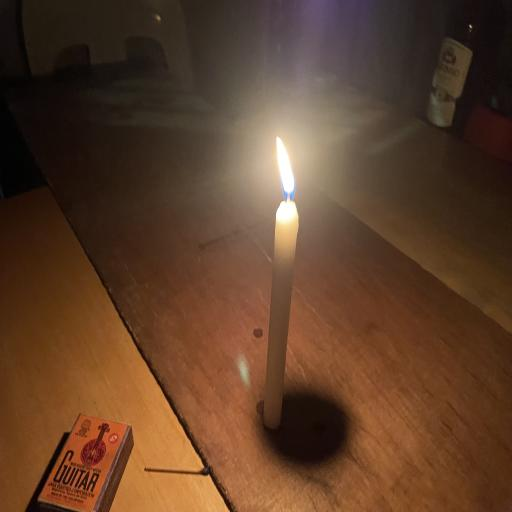fire: (252, 122, 316, 261)
